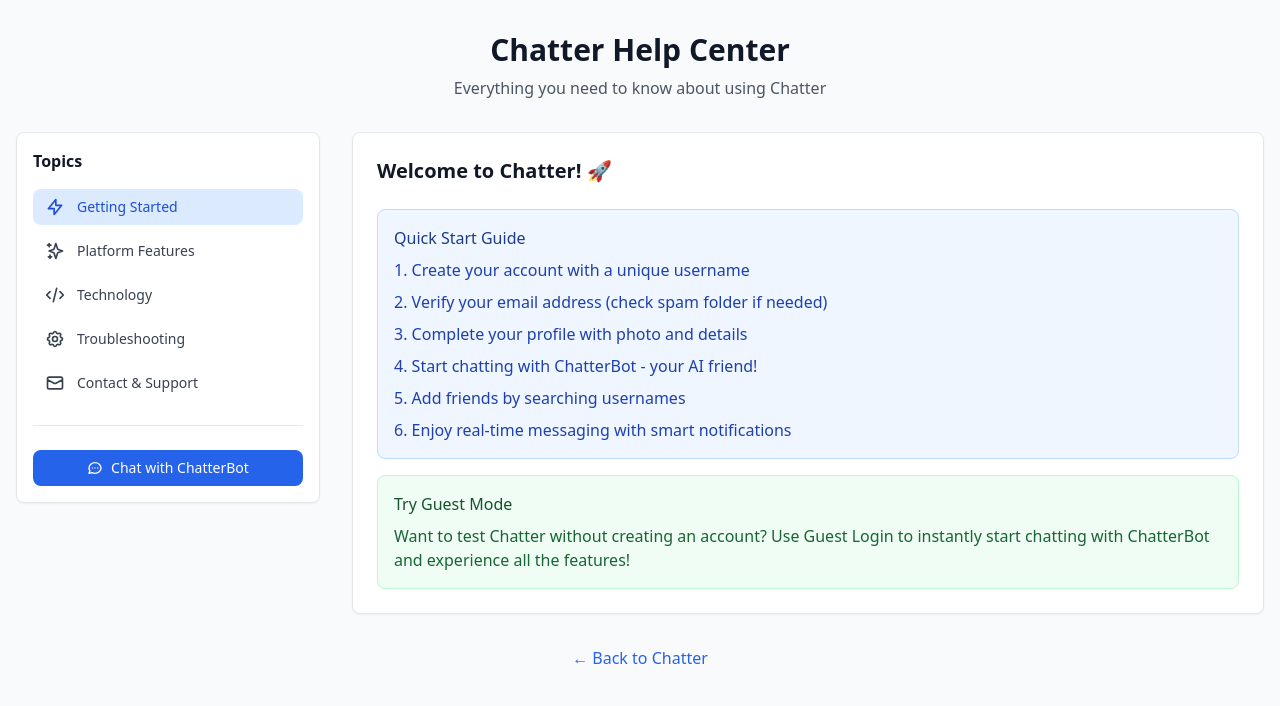
HelpPage Component › Section Navigation › should switch to contact section when clicked
Click the button "Contact & Support": x=168, y=383 [33, 365, 303, 401]
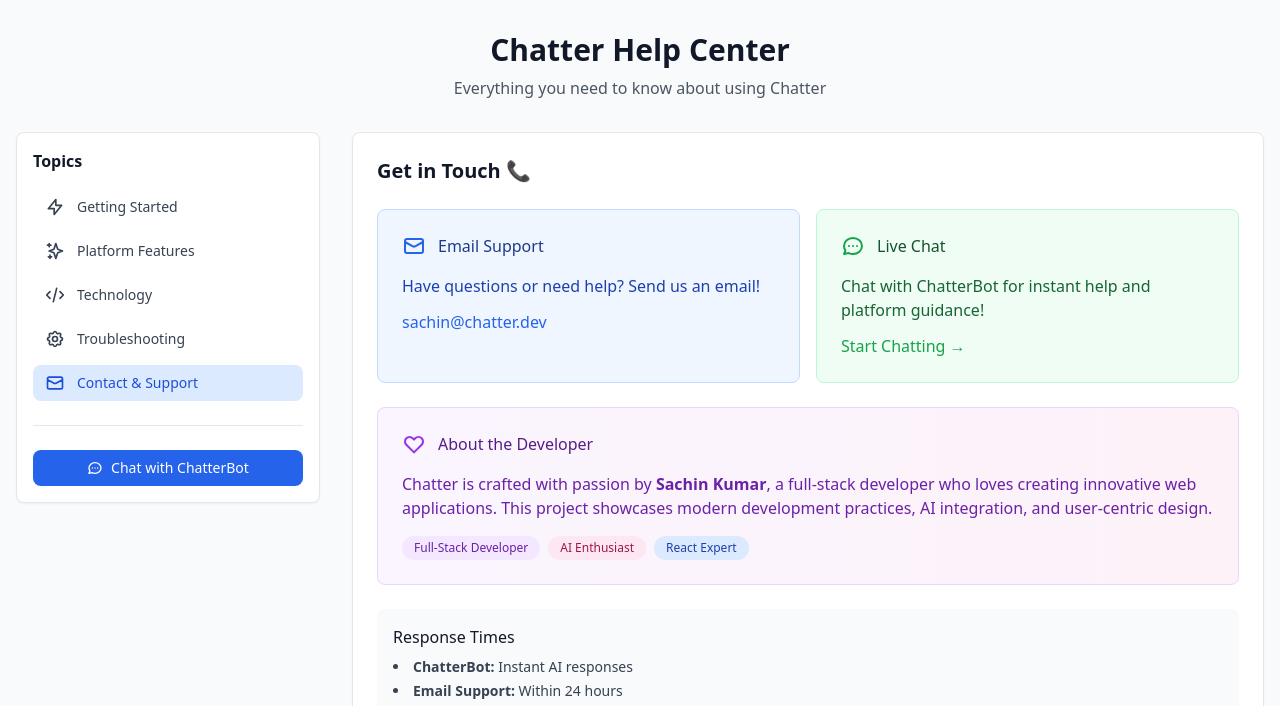
Result: the heading "Get in Touch 📞" is shown at [377, 157, 531, 184]
Result: the heading "Email Support" is shown at [438, 234, 544, 258]
Result: the heading "About the Developer" is shown at [438, 432, 593, 456]
